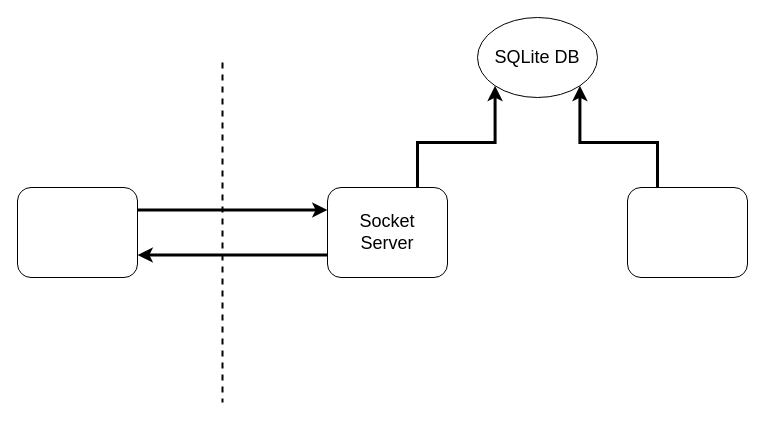
Image size: 765x421. Some labels were removed from this diagram. The box of each missing label's shape, as (x1, y1, x2, y2) in pixels:
Target: (16, 186, 138, 278)
Web Server: (626, 186, 748, 278)
